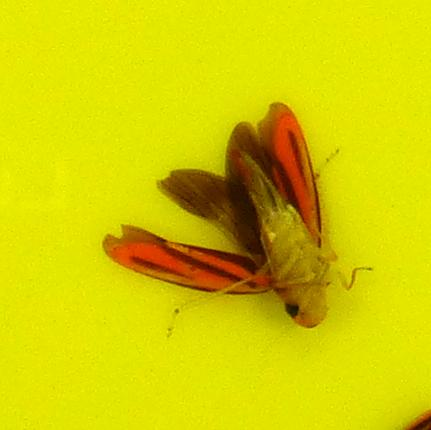Hemiptera: (100, 100, 331, 330)
